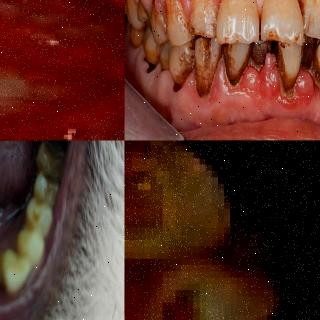Gum Swelling: (134, 49, 320, 123)
calculus: (302, 28, 320, 98), (275, 40, 299, 92), (248, 34, 272, 73)
cavities: (124, 166, 180, 258), (134, 278, 215, 320)
stains: (224, 41, 248, 91), (23, 191, 51, 232), (196, 38, 218, 90), (178, 41, 200, 80), (148, 37, 171, 71), (124, 18, 144, 56), (40, 166, 60, 201), (124, 0, 138, 18)
